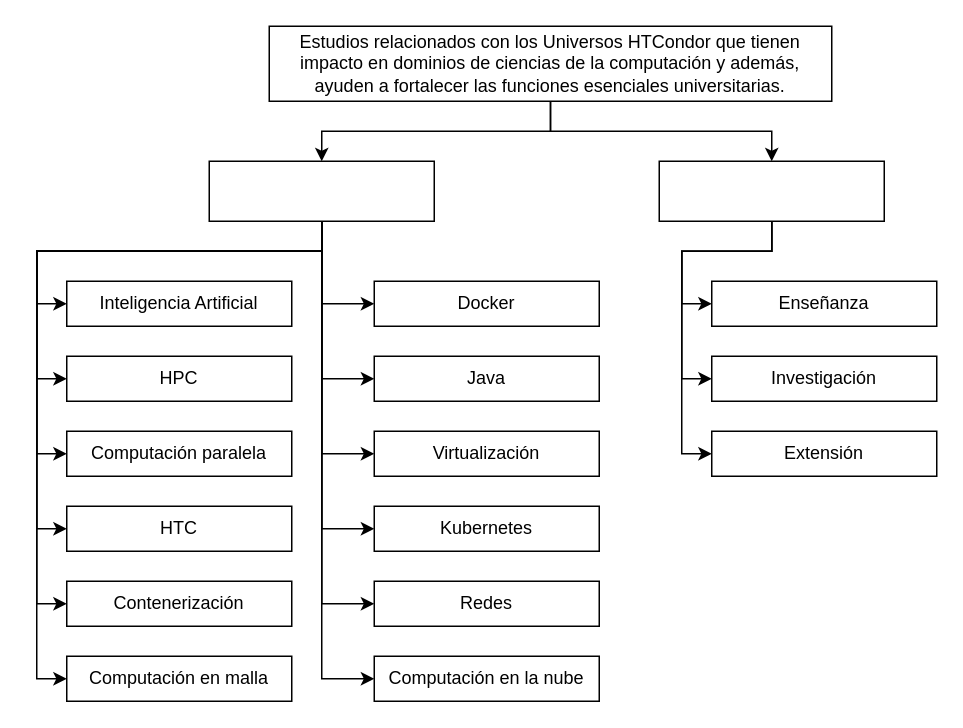
This 963x728 diagram has some shape labels left out. The shapes that lost their labels are listed below. From the top down, each one's box as (x1, y1, x2, y2) in pixels, then its label:
(208, 160, 434, 221): Dominios de ciencias de la computación relevantes
(658, 160, 884, 221): Funciones esenciales universitarias
